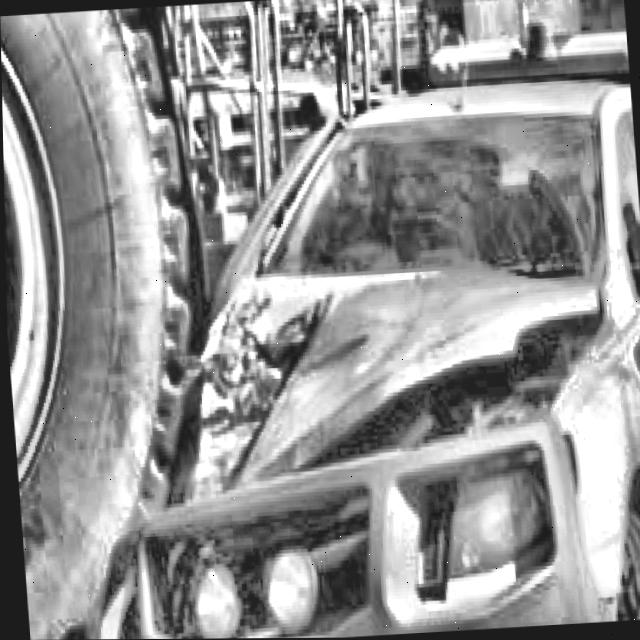light_vehicle: (91, 0, 640, 639)
